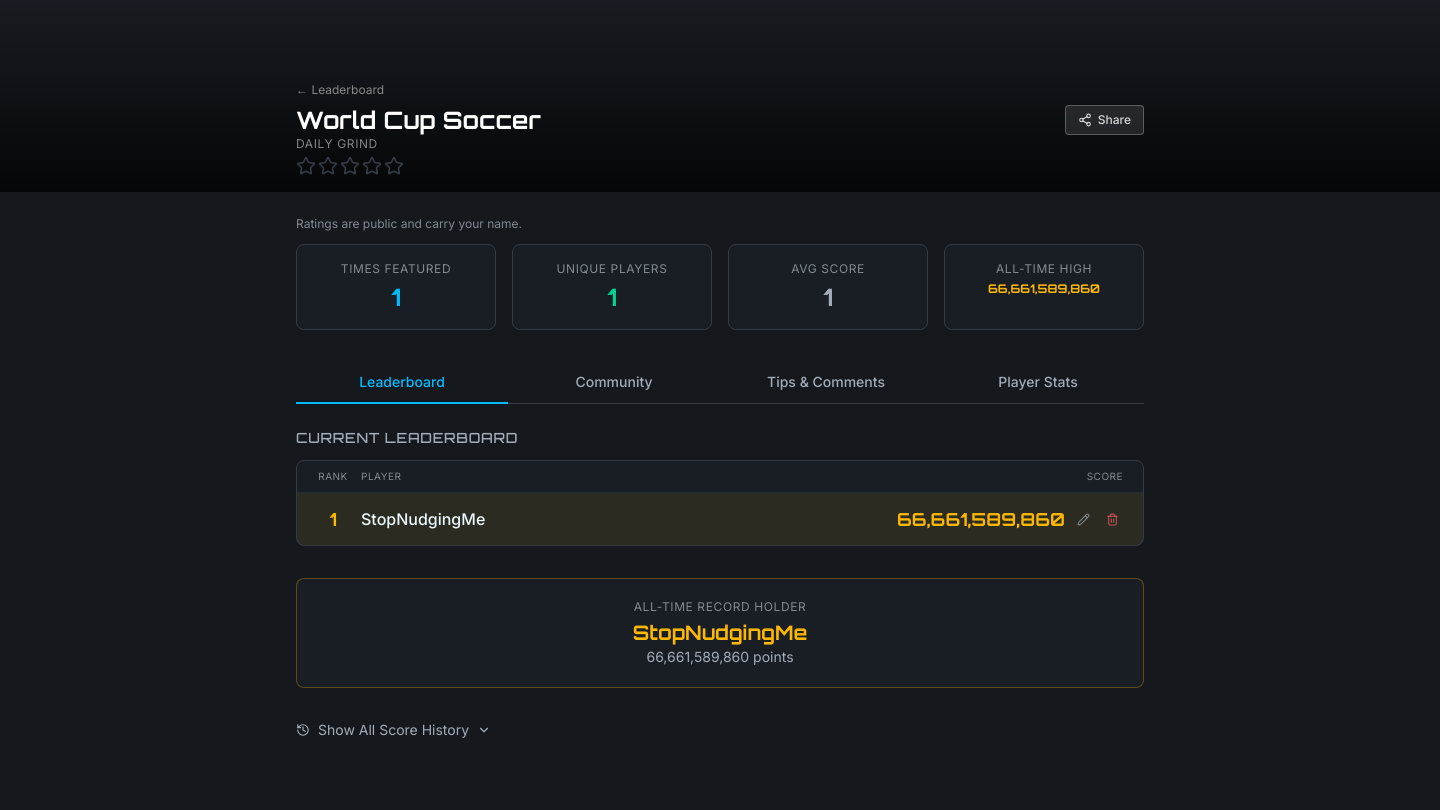
Test: GameDetail — leaderboard-row score correction › opens a dialog naming the old value and its magnitude
This screenshot has width=1440, height=810.
What coordinates should you click on to do the following:
click the button named "Correct this score"
I would click on:
 (1084, 519)
Its box is 1069,504 -> 1098,534.
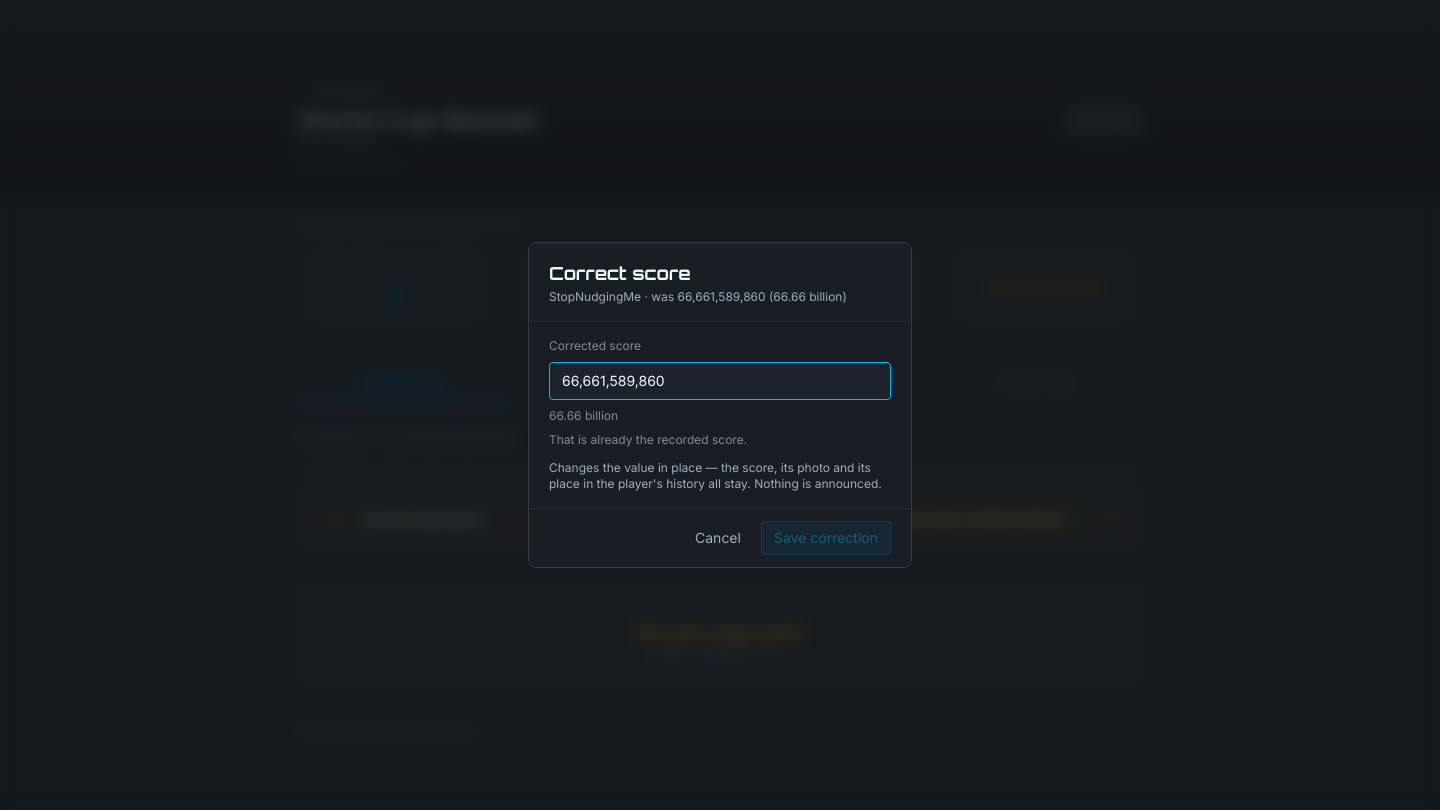
Expected: the heading "Correct score" is shown, 549,262 -> 691,284
Expected: the text "StopNudgingMe · was 66,661,589,860 (66.66 billion)" is shown, 549,289 -> 891,305
